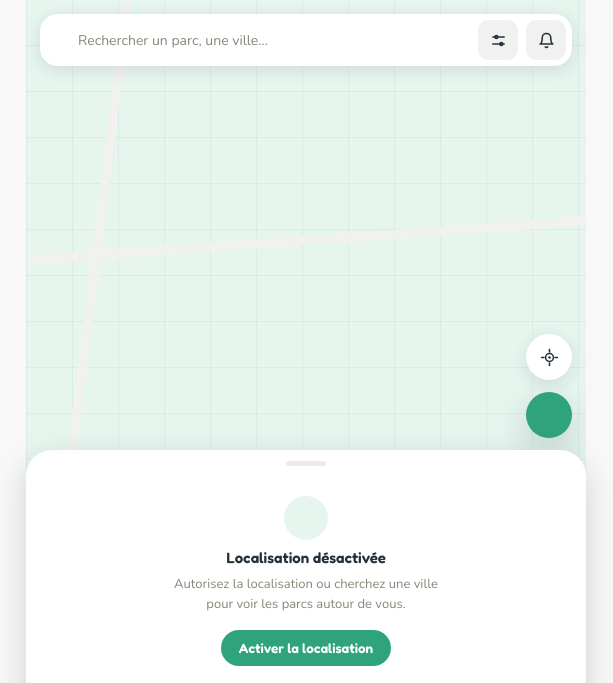
Explorer — recherche › destination vs. location permission › denied + destination → the destination's own state, never « Localisation désactivée »
Check: the text "Localisation désactivée" is shown, box [226,548,386,567]
Click the button "Rechercher un parc, une ville…" at (262, 40), box [54,14,470,66]
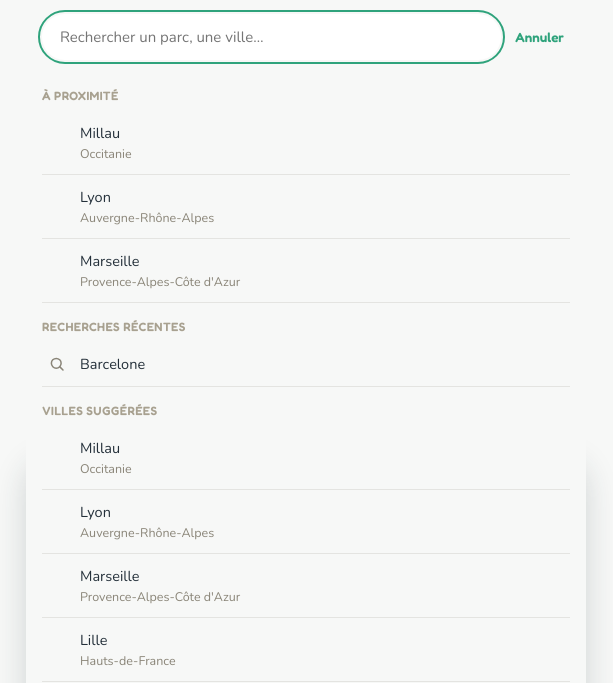
Type "Barcelone" into the field with placeholder "Rechercher un parc, une ville…" at (272, 37), box [42,14,501,60]
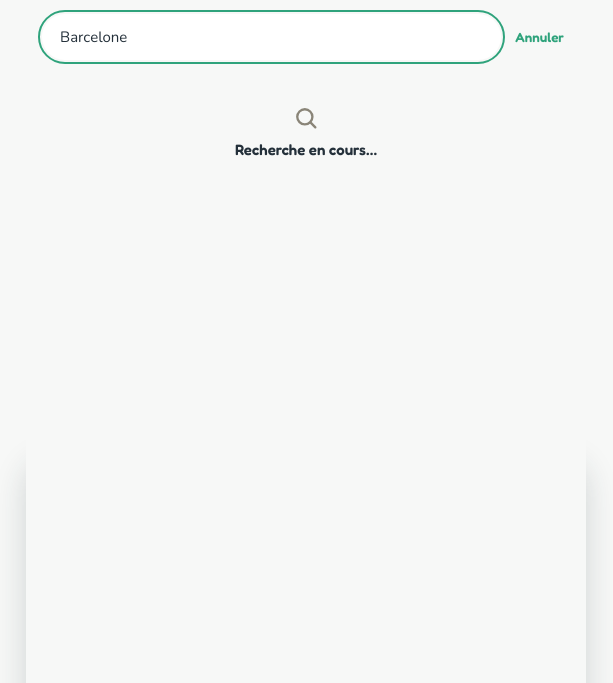
Submit the form with placeholder "Rechercher un parc, une ville…", box [26,0,586,72]
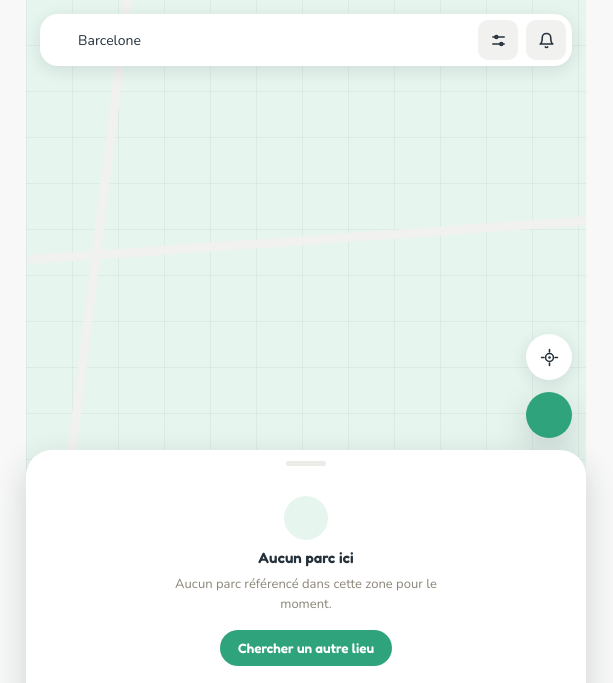
Check: the text "Aucun parc ici" is shown, box [258,548,354,567]
Check: the text "Localisation désactivée" is gone
